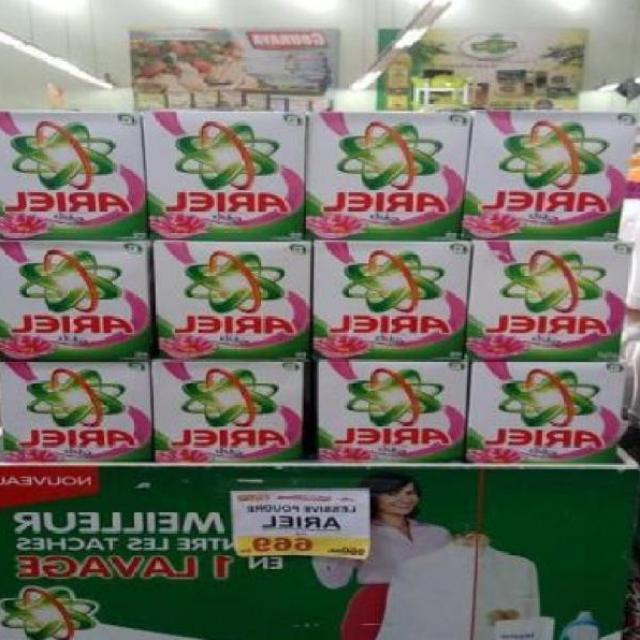Detergent: (142, 105, 307, 246), (467, 110, 627, 238), (307, 237, 469, 363), (305, 353, 474, 464), (0, 238, 156, 358), (0, 115, 150, 239), (311, 114, 463, 236), (472, 241, 620, 358), (0, 358, 158, 465), (147, 355, 309, 458), (477, 361, 620, 467)
